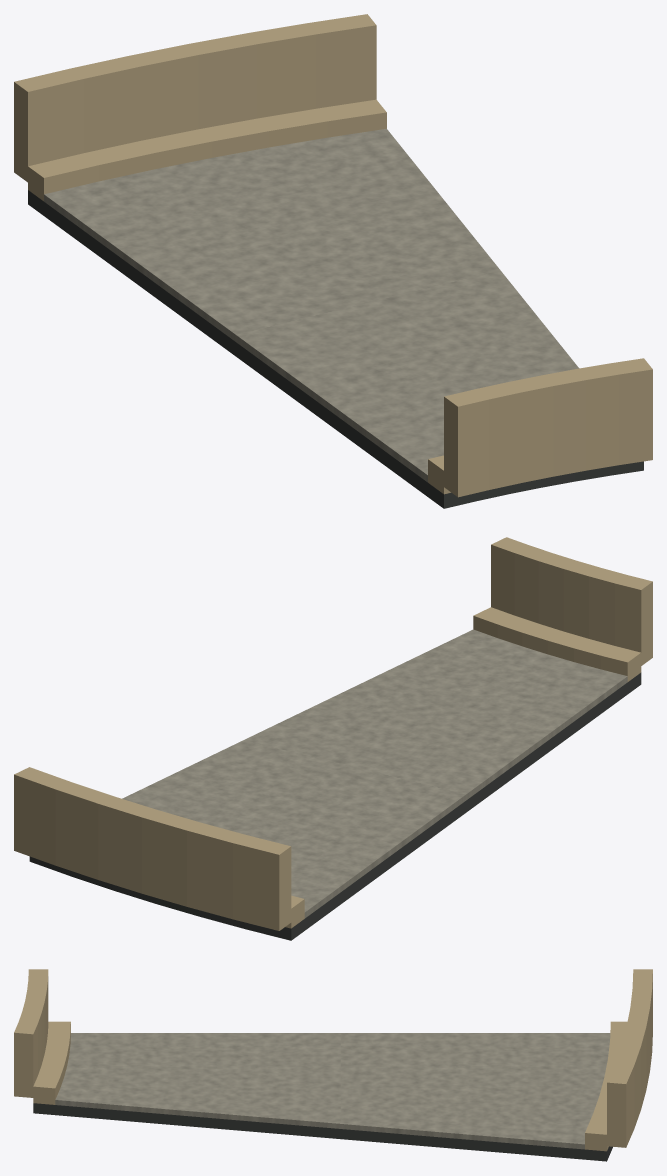
File: road_curve_guarded_right_11_25.glb
3 views of the same model, one above another, from view 1: azimuth 30°, elevation 25°; view 2: azimuth 150°, elevation 25°; view 3: azimuth 270°, elevation 25° (orthographic). The views are drawn at different scales.
Parts seen in each view (by area): view 1: Concrete curve, Curved parapet.001, Curved parapet, Curved curb.001, Curve base; view 2: Concrete curve, Curved parapet.001, Curved parapet, Curve base, Curved curb; view 3: Concrete curve, Curve base, Curved parapet.001, Curved parapet, Curved curb, Curved curb.001.
Part boxes in pixels (box(x1,y1,x2,y2)): Concrete curve: box(44, 128, 579, 482); Curved parapet.001: box(14, 14, 376, 182); Curved parapet: box(444, 358, 652, 497); Curved curb.001: box(28, 99, 386, 201); Curve base: box(28, 190, 643, 508); Concrete curve: box(122, 629, 627, 918); Curved parapet.001: box(14, 767, 291, 930); Curved parapet: box(491, 537, 652, 665); Curve base: box(29, 672, 641, 940); Curved curb: box(473, 607, 641, 681); Concrete curve: box(55, 1033, 610, 1149); Curve base: box(33, 1103, 612, 1161); Curved parapet.001: box(607, 969, 652, 1147); Curved parapet: box(14, 969, 48, 1097); Curved curb: box(33, 1021, 70, 1104); Curved curb.001: box(585, 1021, 627, 1151).
Bounding box in the file's own units: 386 × 124 × 909.
3 materials, 1 textured.
